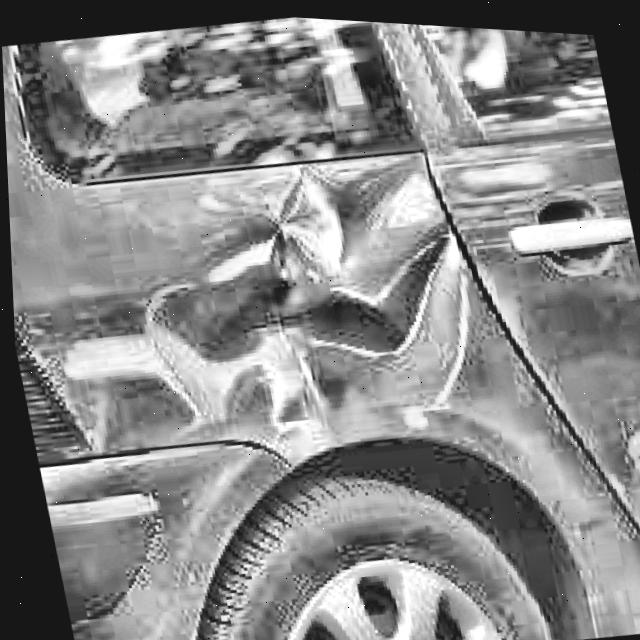door_dent: (117, 208, 490, 469)
